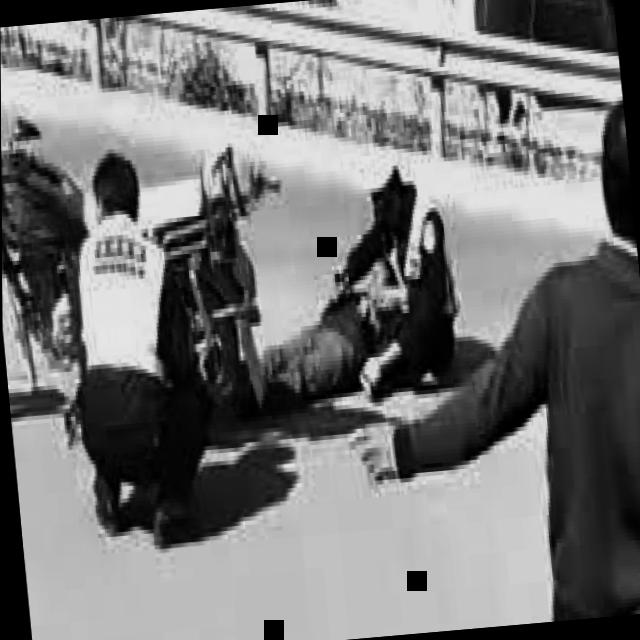Fall-Detected: (185, 144, 470, 424)
